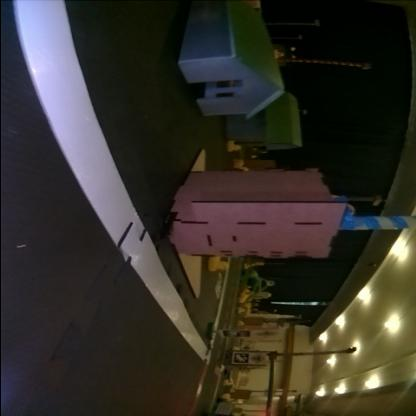Duckie: (207, 257, 225, 273), (227, 142, 241, 152), (274, 50, 284, 60), (234, 160, 244, 168), (224, 380, 232, 386), (238, 297, 246, 303), (222, 394, 230, 400), (238, 308, 245, 314), (238, 322, 244, 326), (244, 265, 250, 269)
Intersection sign: (251, 354, 266, 364)
QR code: (234, 354, 245, 364)
